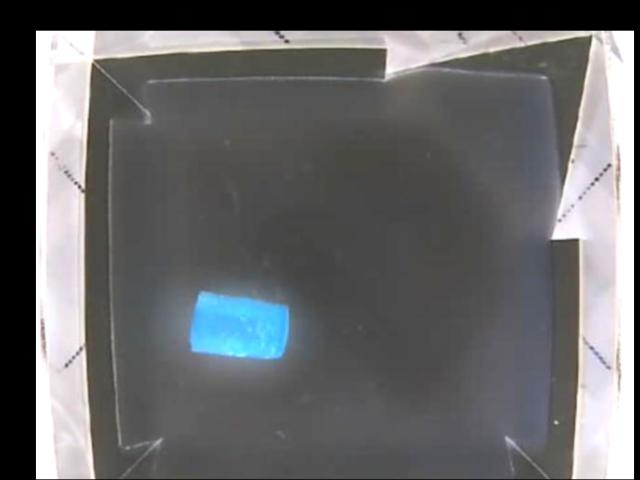Carrot: (188, 289, 289, 356)
